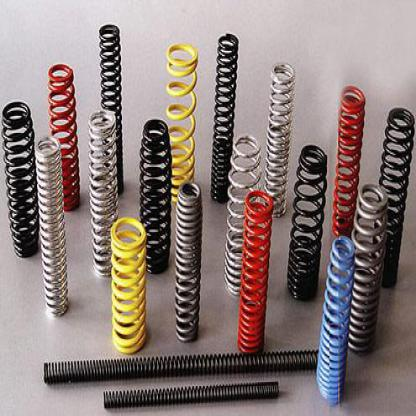FOD: (41, 348, 330, 385), (370, 105, 415, 290), (282, 144, 330, 302), (347, 180, 389, 356), (0, 100, 44, 265), (32, 134, 70, 324), (314, 238, 356, 408), (222, 131, 263, 302), (235, 189, 276, 359), (86, 106, 122, 277), (44, 61, 84, 213), (330, 82, 367, 243), (137, 114, 173, 279), (260, 55, 295, 221), (166, 38, 200, 207), (209, 31, 241, 205), (95, 22, 126, 198), (110, 213, 148, 356), (101, 381, 281, 411), (172, 179, 204, 345)
